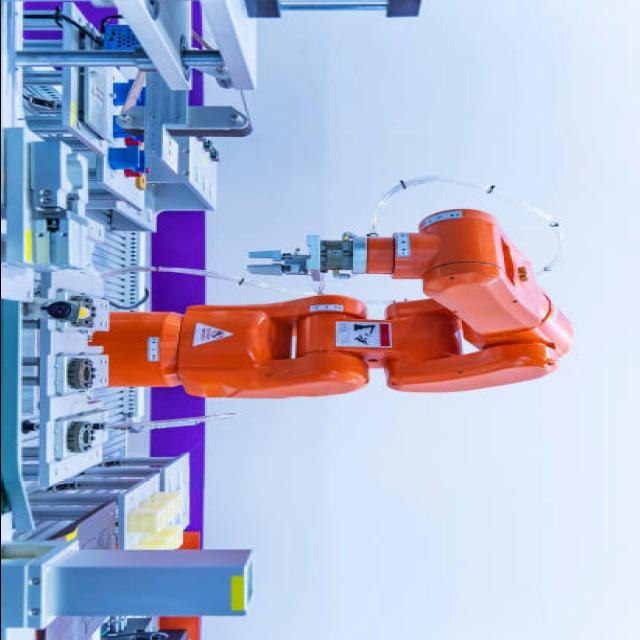Robotic-arm: (103, 193, 586, 409)
